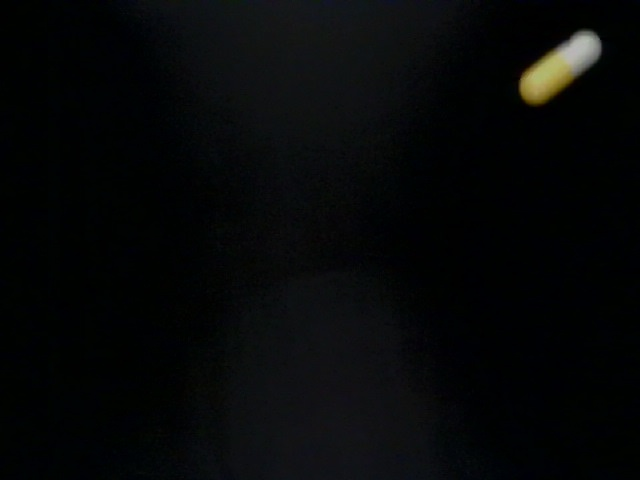YHLJ: (220, 238, 318, 330)
